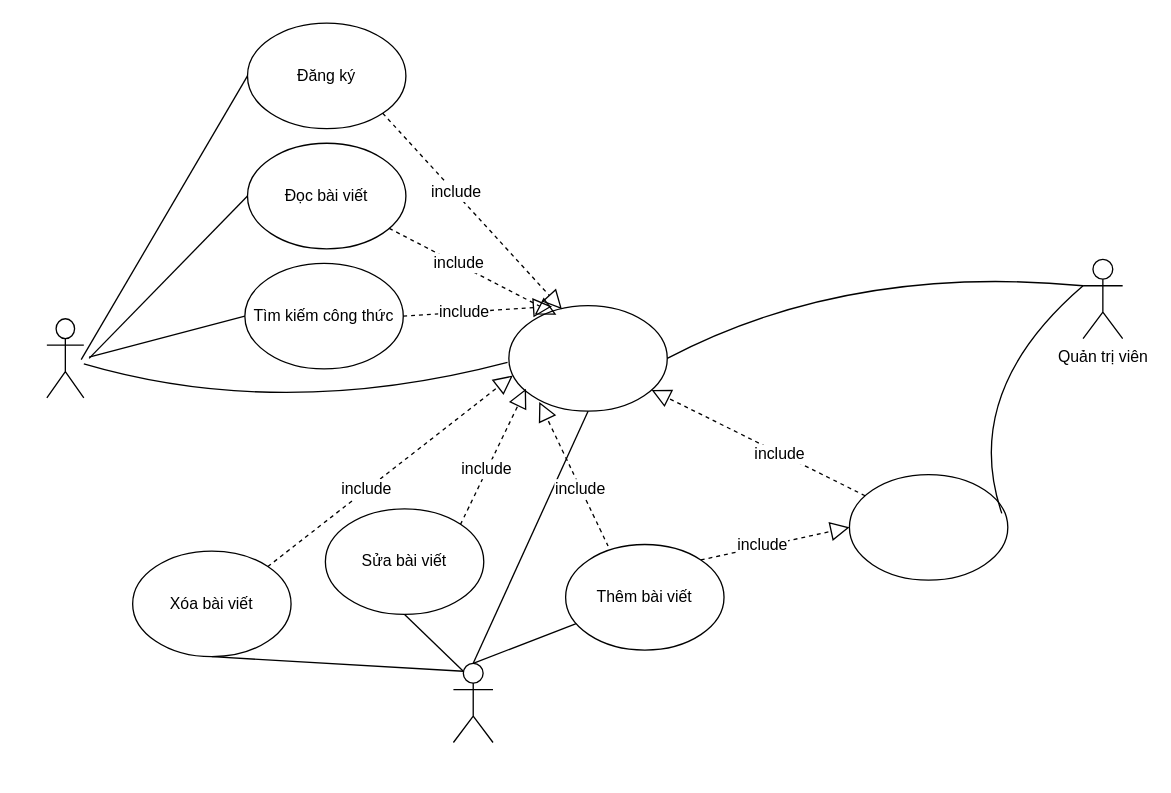
This 1171x793 diagram has some shape labels left out. Each missing label, with the box of its shape:
Kiểm duyệt bài viết: (848, 473, 1008, 580)
Người dùng: (46, 317, 84, 398)
Tác giả: (452, 662, 493, 742)
Đăng nhập: (508, 304, 667, 411)
